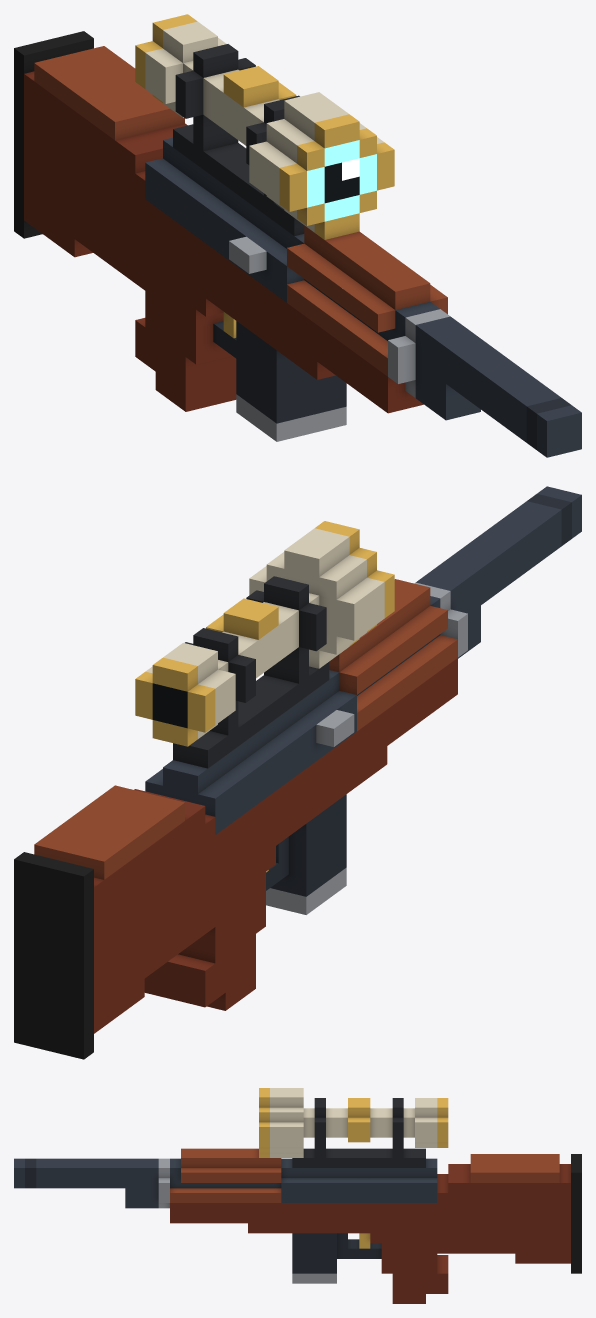
Rendered from marksman.glb.
The picture shows the model from 3 angles, top to bottom: view 1: azimuth 30°, elevation 25°; view 2: azimuth 150°, elevation 25°; view 3: azimuth 270°, elevation 25°; orthographic projection. The views are drawn at different scales.
Parts seen in each view (by area): view 1: marksman_body; view 2: marksman_body; view 3: marksman_body.
Boxes of the visible parts, x1,y1,x2,y2 form: marksman_body: (14, 14, 581, 457); marksman_body: (14, 486, 581, 1059); marksman_body: (14, 1088, 581, 1303).
Size of the model in its own units: 0.2344 by 0.7812 by 1.99.
1 material, 1 textured.
